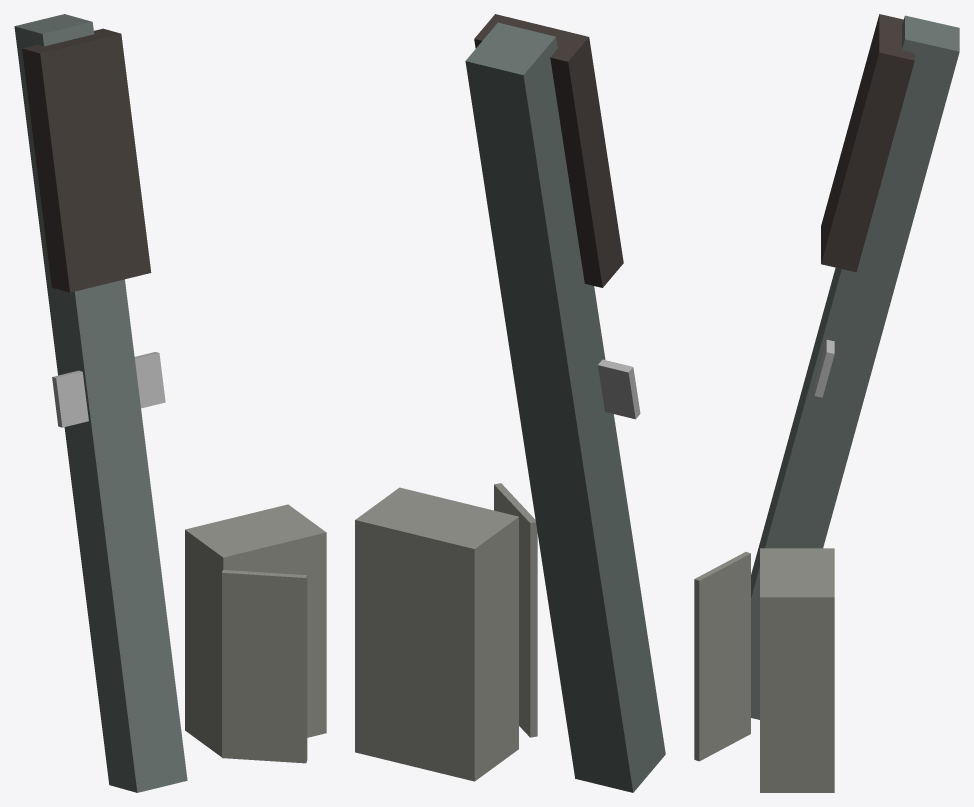
File: SM_senal_via_v2_LOD1.fbx
3 views of the same model, side by side, from view 1: azimuth 30°, elevation 25°; view 2: azimuth 150°, elevation 25°; view 3: azimuth 270°, elevation 25° (orthographic). The views are drawn at different scales.
Parts seen in each view (by area): view 1: SM_bloques.senal_via_v2_LOD1; view 2: SM_bloques.senal_via_v2_LOD1; view 3: SM_bloques.senal_via_v2_LOD1.
Boxes of the visible parts, <box> form: SM_bloques.senal_via_v2_LOD1: <box>14,14,326,792</box>; SM_bloques.senal_via_v2_LOD1: <box>355,14,665,792</box>; SM_bloques.senal_via_v2_LOD1: <box>694,14,959,792</box>.
Size of the model in its own units: 1.6 by 4.55 by 1.6.
